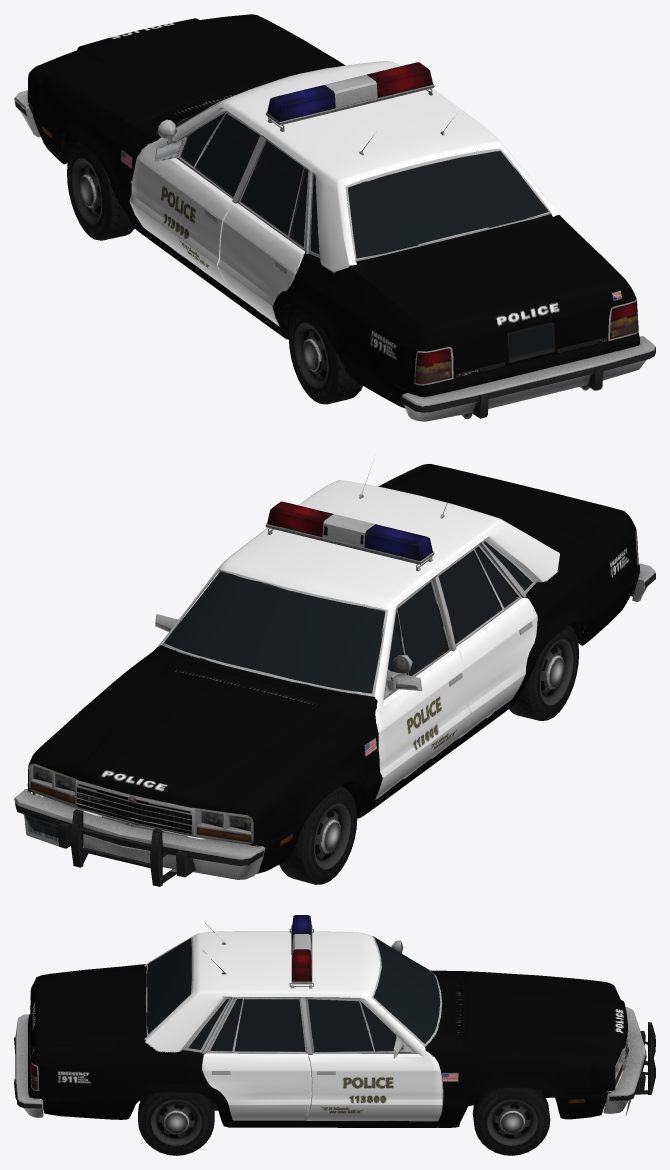
The model's file is fairheaven_cop.glb.
3 views of the same model, one above another, from view 1: azimuth 30°, elevation 25°; view 2: azimuth 150°, elevation 25°; view 3: azimuth 270°, elevation 25° (orthographic). The views are drawn at different scales.
Visible parts, largest first — view 1: Body, LightsRear, Trim, WheelRL, WheelFL, Glass, LightsFront; view 2: Body, Trim, LightsFront, LightsRear, WheelFL, WheelRL, Glass; view 3: Body, LightsRear, Trim, LightsFront, WheelFR, WheelRR.
Part boxes in pixels (left/top/right/bottom): Body: left=27, top=14, right=639, bottom=408; LightsRear: left=197, top=62, right=638, bottom=383; Trim: left=14, top=67, right=655, bottom=421; WheelRL: left=288, top=309, right=362, bottom=404; WheelFL: left=67, top=142, right=134, bottom=240; Glass: left=508, top=324, right=553, bottom=357; LightsFront: left=175, top=98, right=226, bottom=165; Body: left=27, top=464, right=639, bottom=873; Trim: left=14, top=460, right=655, bottom=886; LightsFront: left=31, top=571, right=402, bottom=842; LightsRear: left=267, top=501, right=638, bottom=675; WheelFL: left=279, top=786, right=357, bottom=884; WheelRL: left=509, top=625, right=578, bottom=720; Glass: left=24, top=814, right=58, bottom=846; Body: left=28, top=931, right=627, bottom=1127; LightsRear: left=30, top=915, right=373, bottom=1089; Trim: left=14, top=923, right=655, bottom=1127; LightsFront: left=361, top=938, right=622, bottom=1085; WheelFR: left=472, top=1087, right=550, bottom=1155; WheelRR: left=138, top=1092, right=214, bottom=1155.
Size of the model in its own units: 6.12 by 5.27 by 17.01.
Materials: 9 (8 with a texture image).
